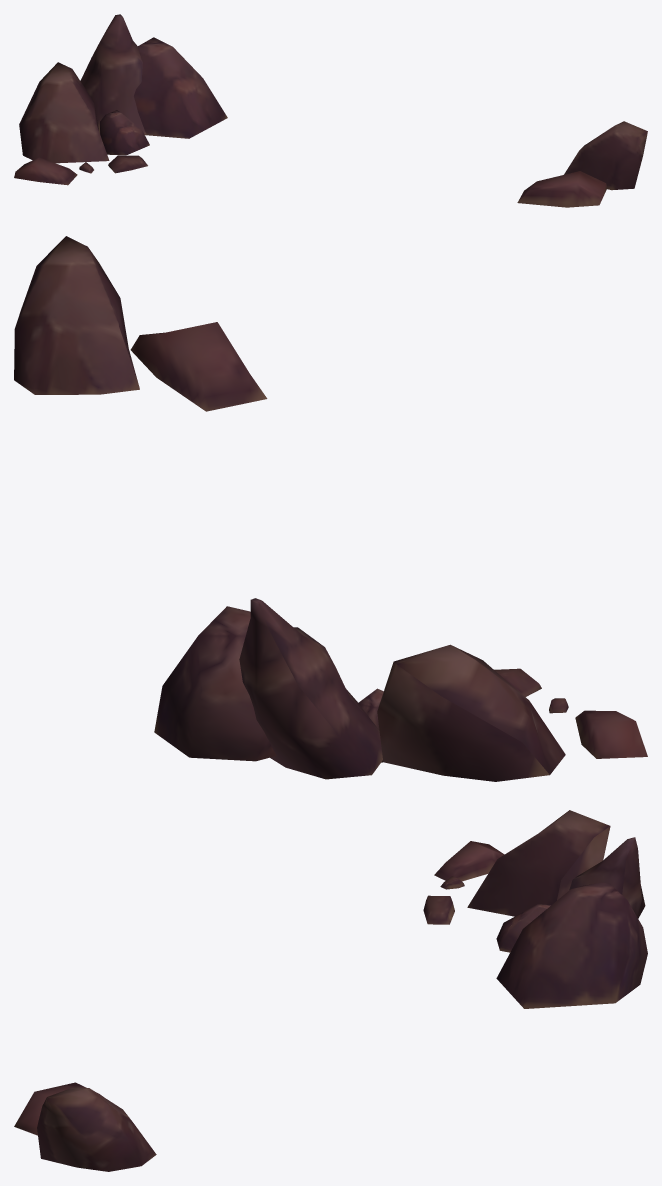
Rendered from area_11_shanshi01.FBX.
The picture shows the model from 3 angles, top to bottom: view 1: azimuth 30°, elevation 25°; view 2: azimuth 150°, elevation 25°; view 3: azimuth 270°, elevation 25°; orthographic projection. The views are drawn at different scales.
Parts seen in each view (by area): view 1: area_11_shanshi01; view 2: area_11_shanshi01; view 3: area_11_shanshi01.
Boxes of the visible parts, <box> form: area_11_shanshi01: <box>14,14,647,207</box>; area_11_shanshi01: <box>14,236,647,781</box>; area_11_shanshi01: <box>14,810,647,1171</box>.
Bounding box in the file's own units: 1352 × 265 × 1124.
